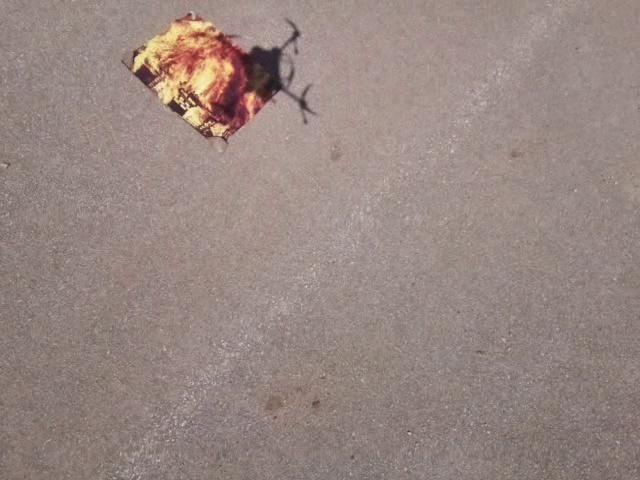fire-poster: (119, 10, 304, 155)
